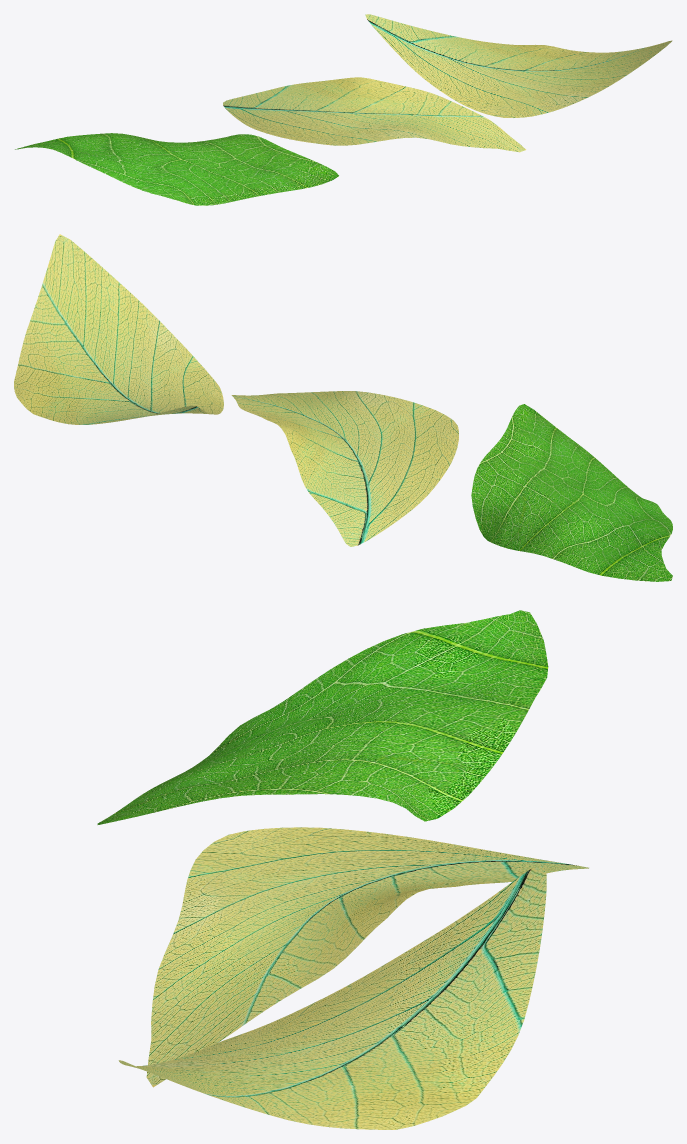
Rendered from Leaves.fbx.
3 renders of one model, top to bottom at view 1: azimuth 30°, elevation 25°; view 2: azimuth 150°, elevation 25°; view 3: azimuth 270°, elevation 25°, orthographic. The views are drawn at different scales.
Visible parts, largest first — view 1: Plane.002, Plane, Plane.001; view 2: Plane.002, Plane.001, Plane; view 3: Plane.002, Plane.001, Plane.
Part boxes in pixels (bbox=[...]): Plane.002: bbox=[365, 14, 672, 117]; Plane: bbox=[223, 77, 525, 152]; Plane.001: bbox=[15, 133, 338, 205]; Plane.002: bbox=[14, 234, 223, 424]; Plane.001: bbox=[471, 404, 672, 581]; Plane: bbox=[231, 391, 458, 546]; Plane.002: bbox=[118, 865, 546, 1129]; Plane.001: bbox=[97, 610, 548, 824]; Plane: bbox=[146, 827, 588, 1087].
Bounding box in the file's own units: 533 × 74.25 × 204.
